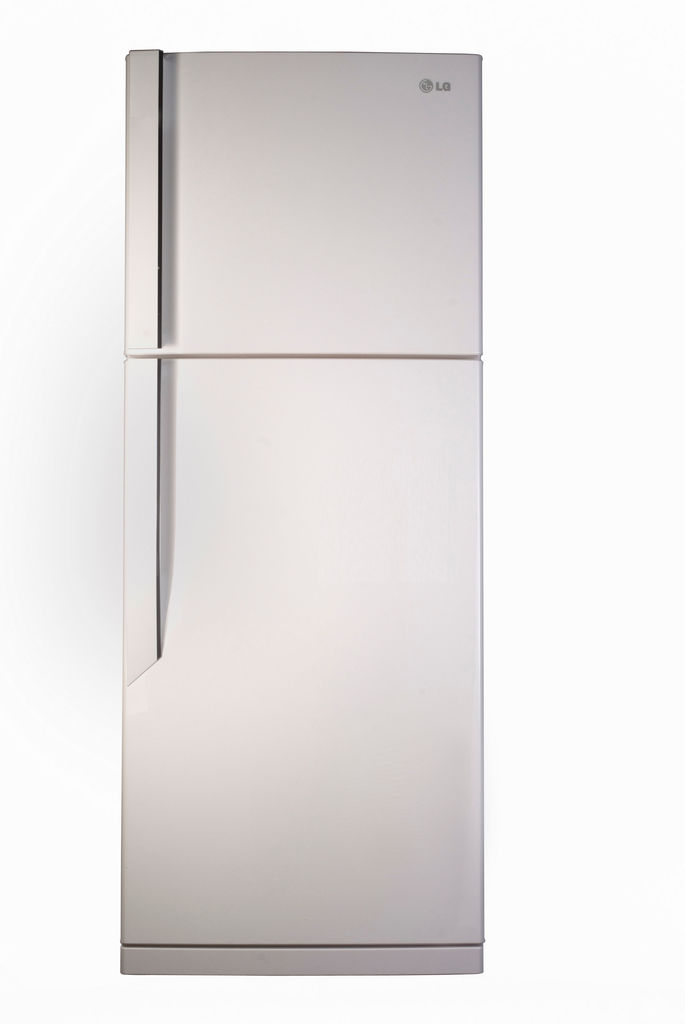handle: (122, 358, 158, 671), (126, 53, 163, 337)
refrigerator door: (126, 356, 484, 966), (125, 46, 484, 351)
